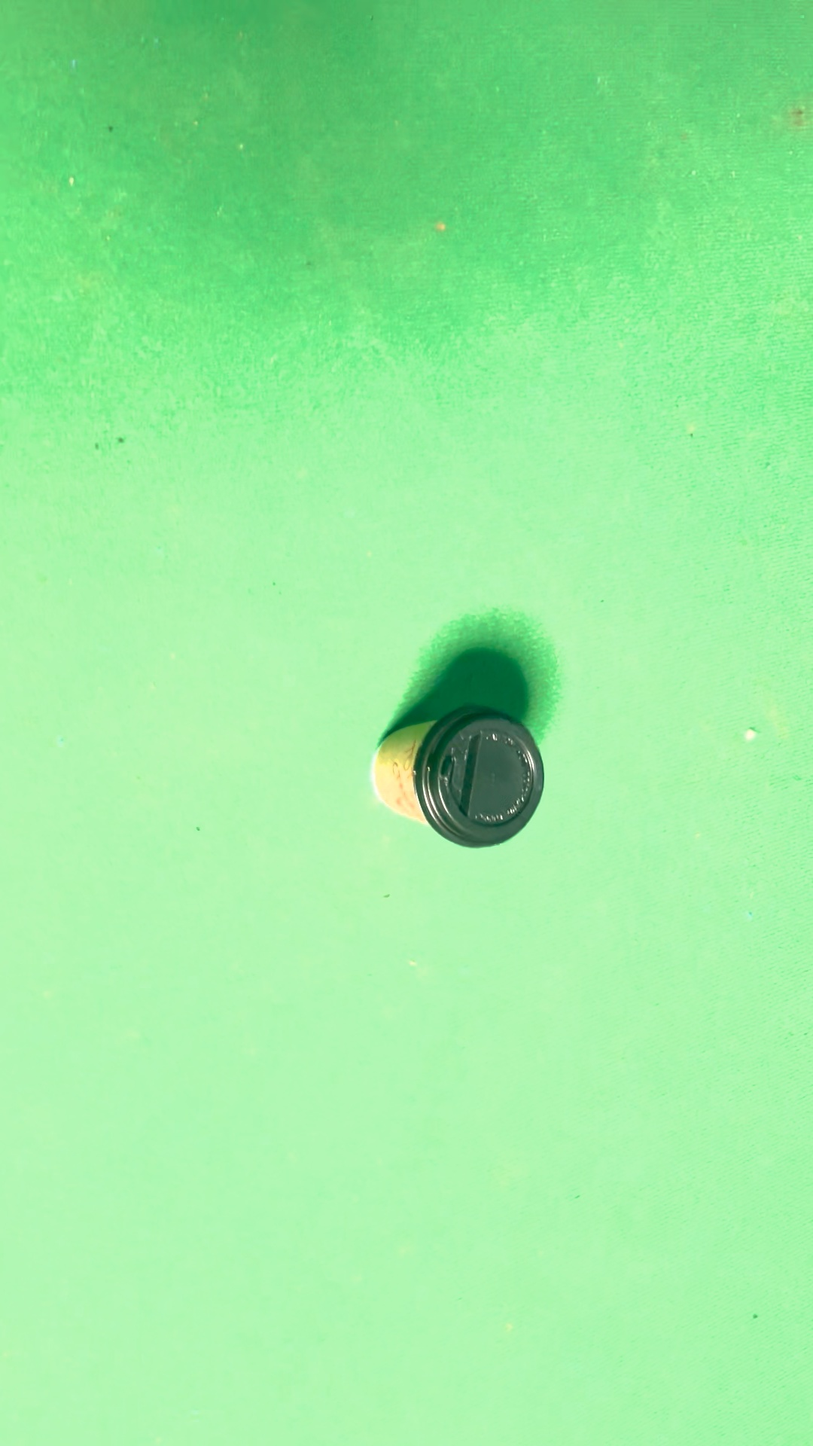cup: (408, 467, 490, 866)
